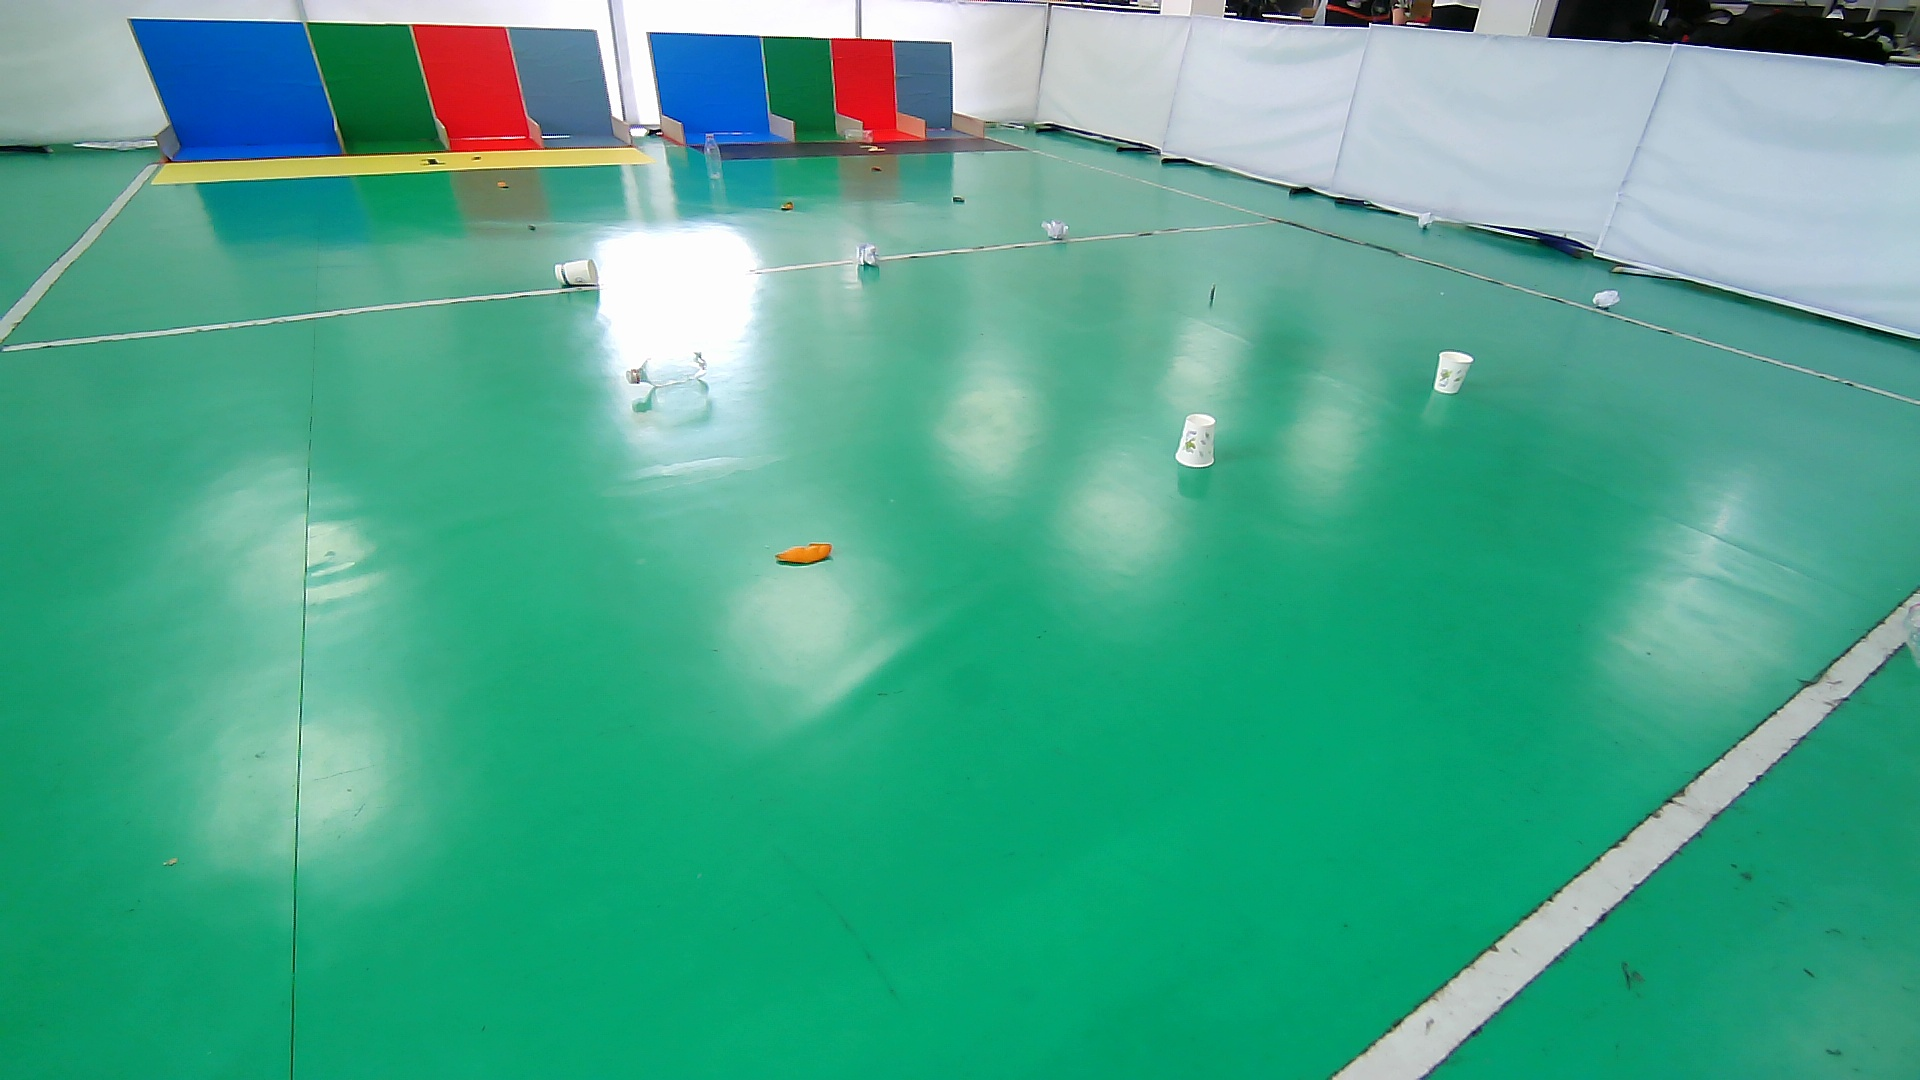battery: (1203, 277, 1222, 314), (520, 218, 545, 236), (947, 191, 972, 208)
bottle: (624, 347, 712, 392), (702, 132, 727, 181)
orangepeel: (769, 527, 837, 579), (771, 195, 802, 216), (491, 174, 516, 193), (866, 160, 887, 177)
papercup: (1174, 411, 1222, 472), (1429, 345, 1477, 397), (550, 256, 601, 291)
spitball: (1036, 214, 1075, 243), (852, 239, 882, 270), (1588, 286, 1623, 311)
